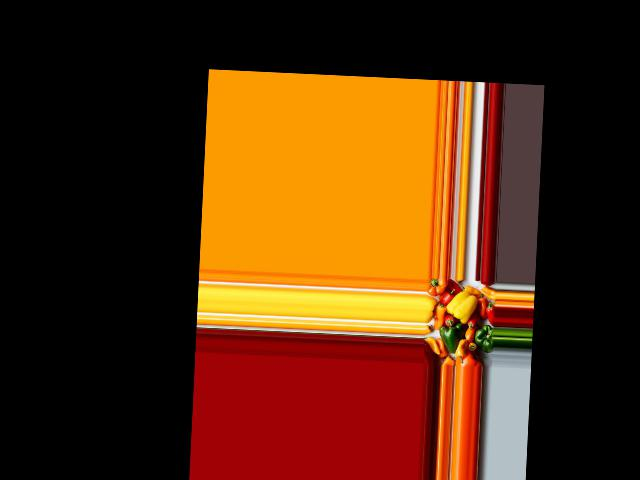bell_pepper: (483, 301, 496, 324)
